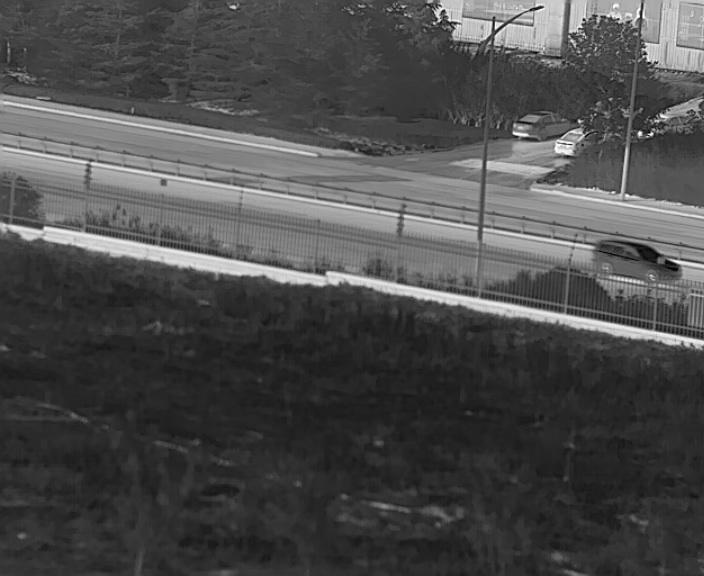vehicle: (590, 237, 681, 284), (512, 110, 562, 141), (552, 126, 591, 154)
